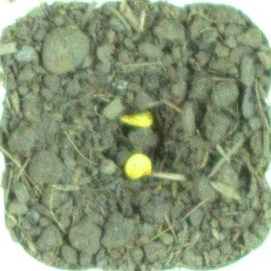chilli seed: (116, 102, 156, 130), (121, 151, 155, 181)
